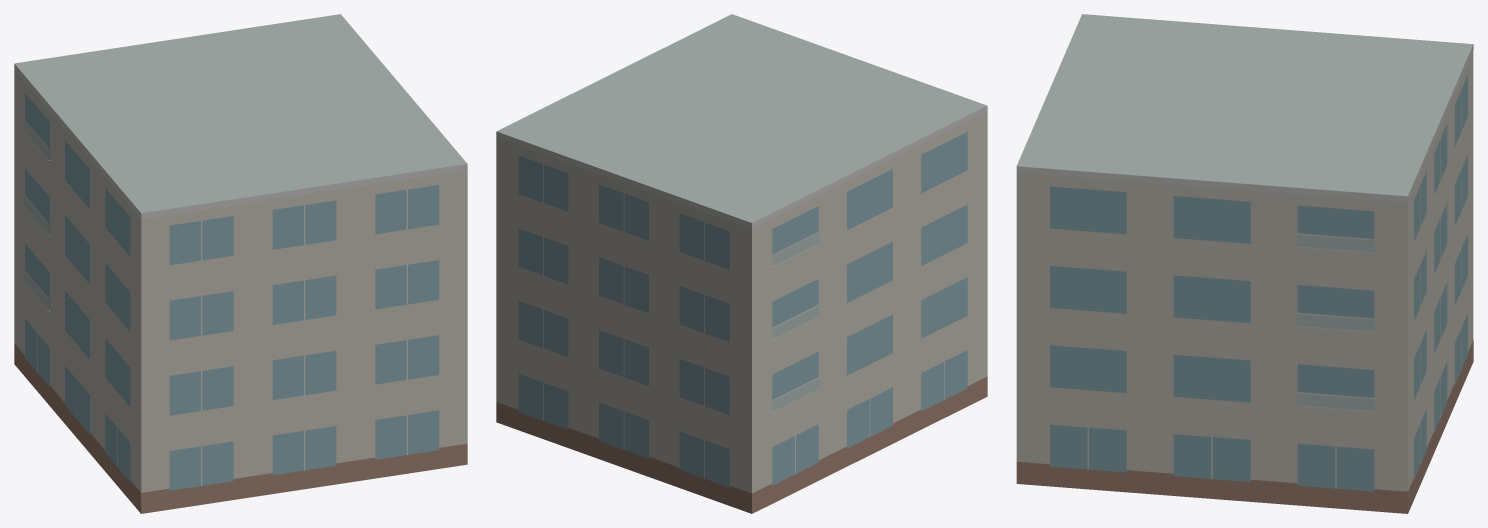
The model's file is residential-3640c8d6-3cb2-4819-b0fe-dfa9cb98d6a2.glb.
The picture shows the model from 3 angles, left to right: view 1: azimuth 30°, elevation 25°; view 2: azimuth 150°, elevation 25°; view 3: azimuth 270°, elevation 25°; orthographic projection. The views are drawn at different scales.
Parts seen in each view (by area): view 1: residential-3640c8d6-3cb2-4819-b0fe-dfa9cb98d6a2.tmp; view 2: residential-3640c8d6-3cb2-4819-b0fe-dfa9cb98d6a2.tmp; view 3: residential-3640c8d6-3cb2-4819-b0fe-dfa9cb98d6a2.tmp.
Part boxes in pixels (left/top/right/bottom): residential-3640c8d6-3cb2-4819-b0fe-dfa9cb98d6a2.tmp: left=14, top=14, right=467, bottom=513; residential-3640c8d6-3cb2-4819-b0fe-dfa9cb98d6a2.tmp: left=496, top=14, right=987, bottom=513; residential-3640c8d6-3cb2-4819-b0fe-dfa9cb98d6a2.tmp: left=1016, top=14, right=1473, bottom=513.
Bounding box in the file's own units: 15.03 × 12.2 × 15.92.
